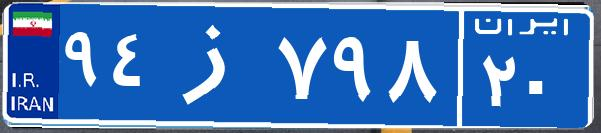0: (525, 38, 570, 115)
2: (475, 38, 525, 113)
4: (110, 28, 158, 105)
7: (273, 28, 330, 110)
8: (385, 28, 445, 110)
9: (330, 28, 385, 110), (57, 26, 110, 107)
ز: (158, 15, 273, 115)
